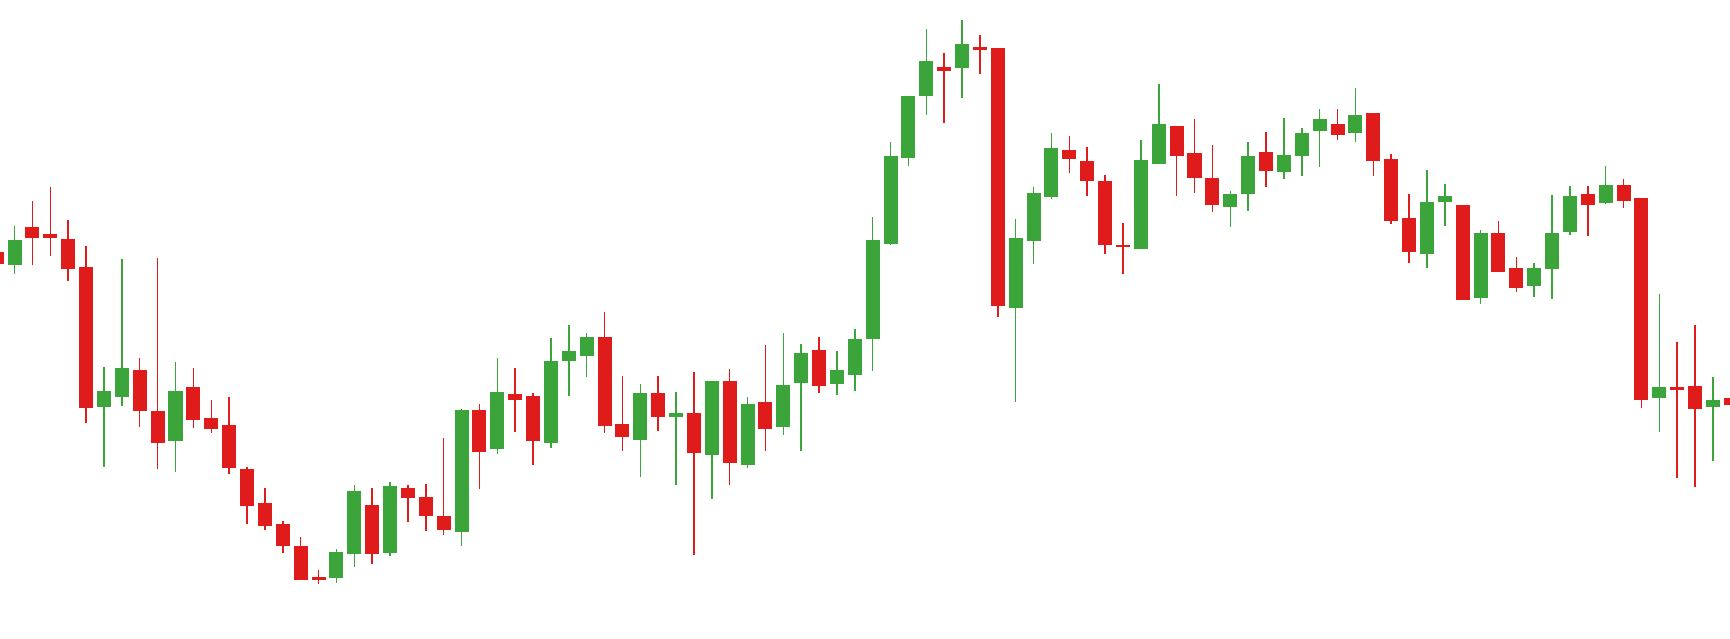buy: (473, 369, 720, 564)
